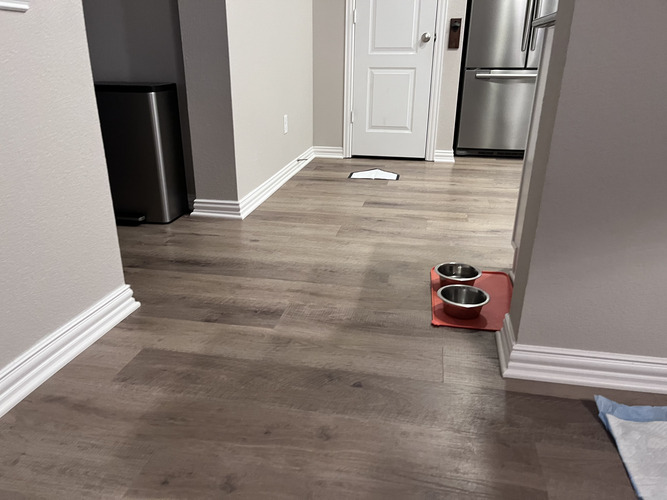homeplate: (347, 168, 400, 181)
